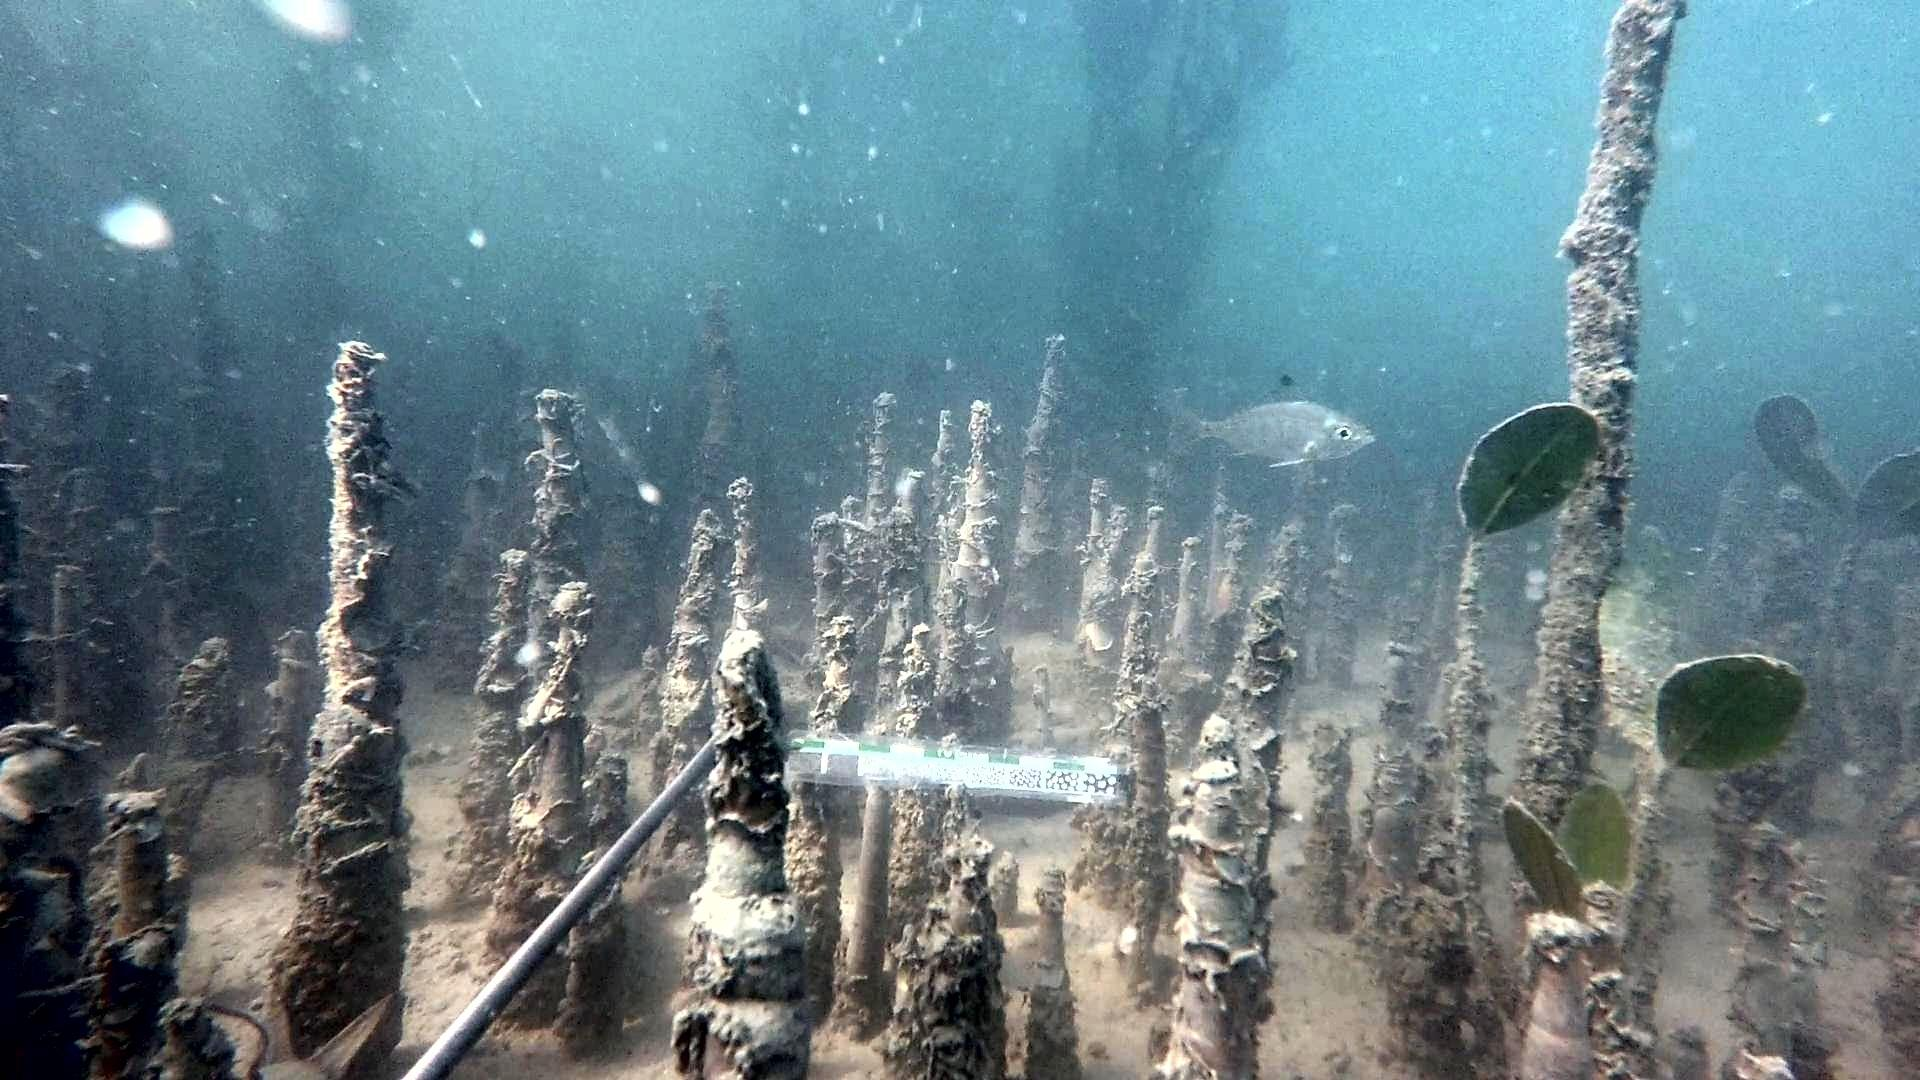gerres: (1162, 373, 1380, 470)
